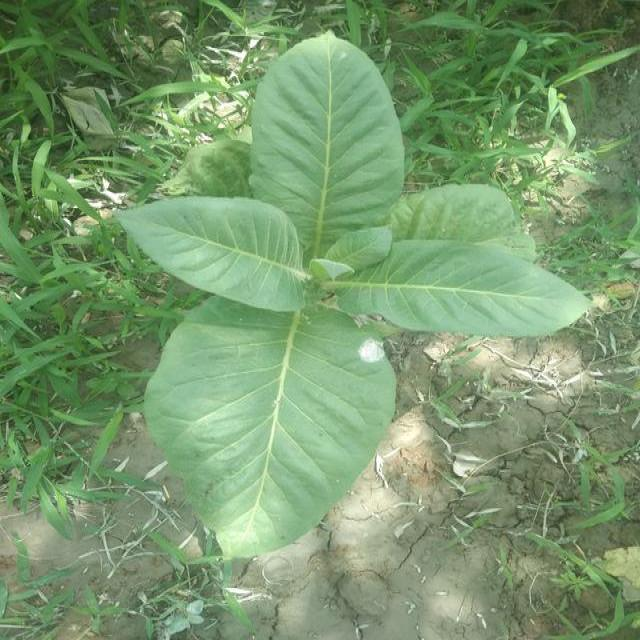crop: (118, 34, 583, 574)
